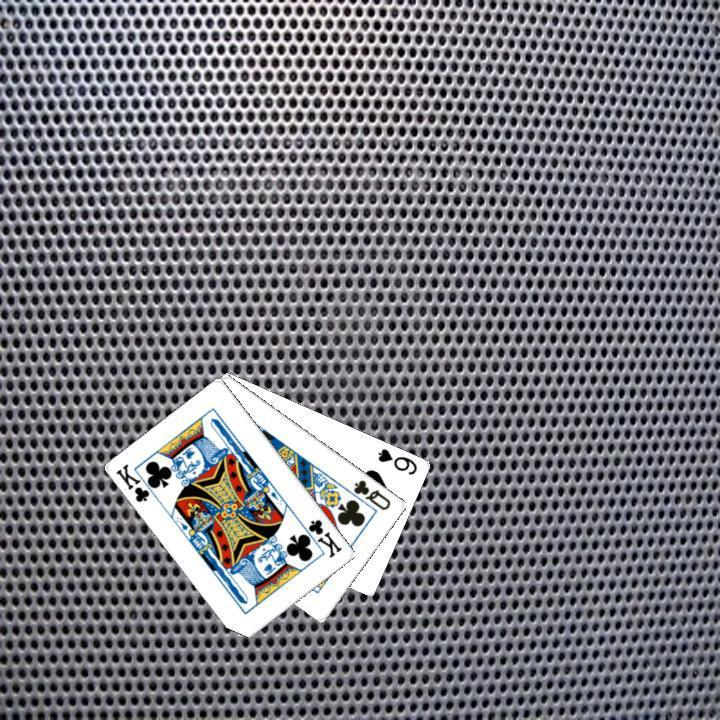6: (374, 444, 420, 477)
K: (296, 515, 344, 560), (112, 460, 160, 505)
Q: (349, 475, 393, 512)
